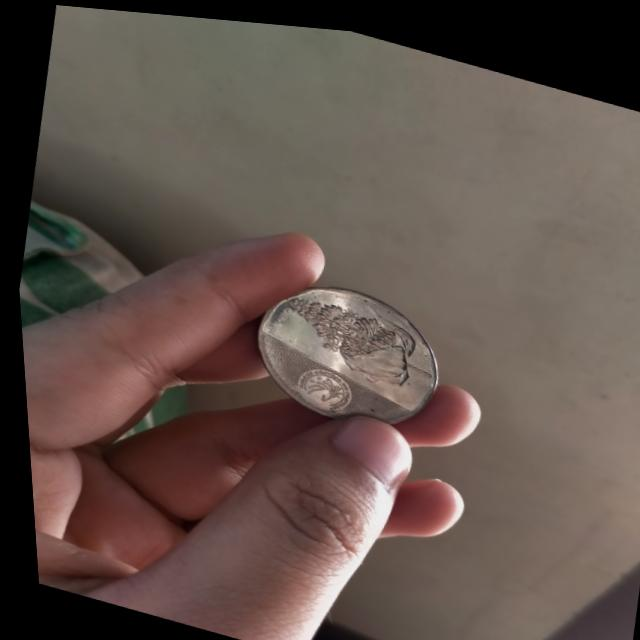10_New_Back: (274, 278, 441, 395)
